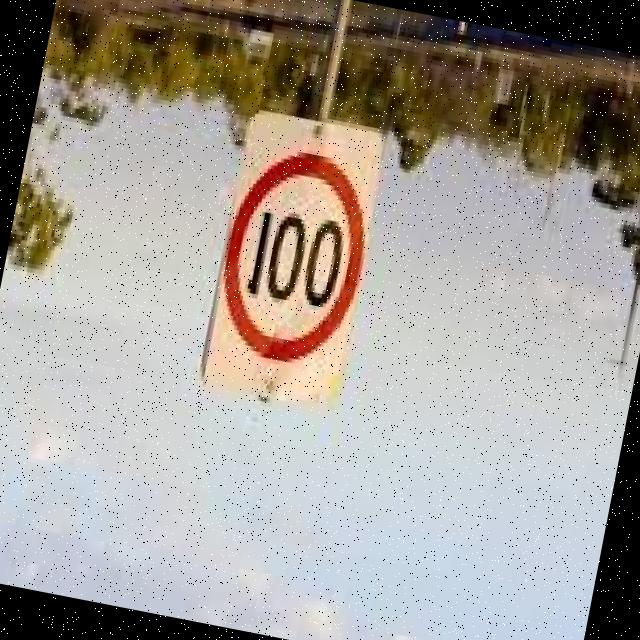speed_limit_100: (206, 139, 383, 382)
